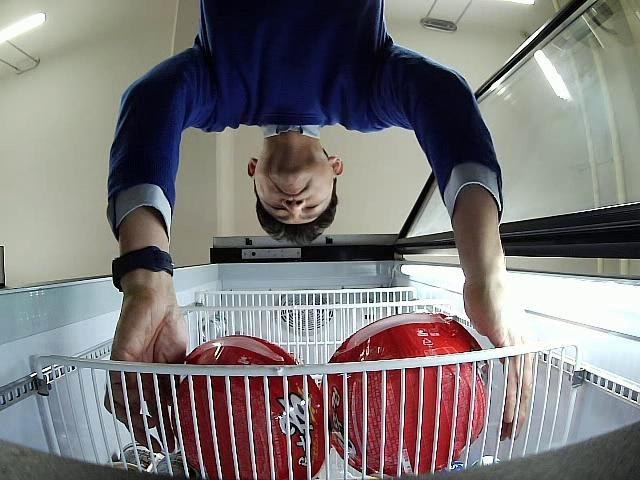10_wangTtukkeong: (320, 314, 492, 476), (172, 336, 324, 480)
